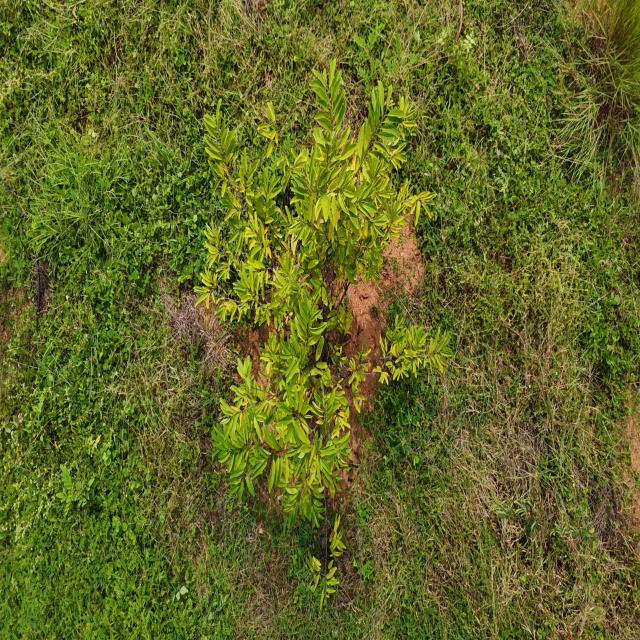notMangoTree: (192, 56, 456, 608)
